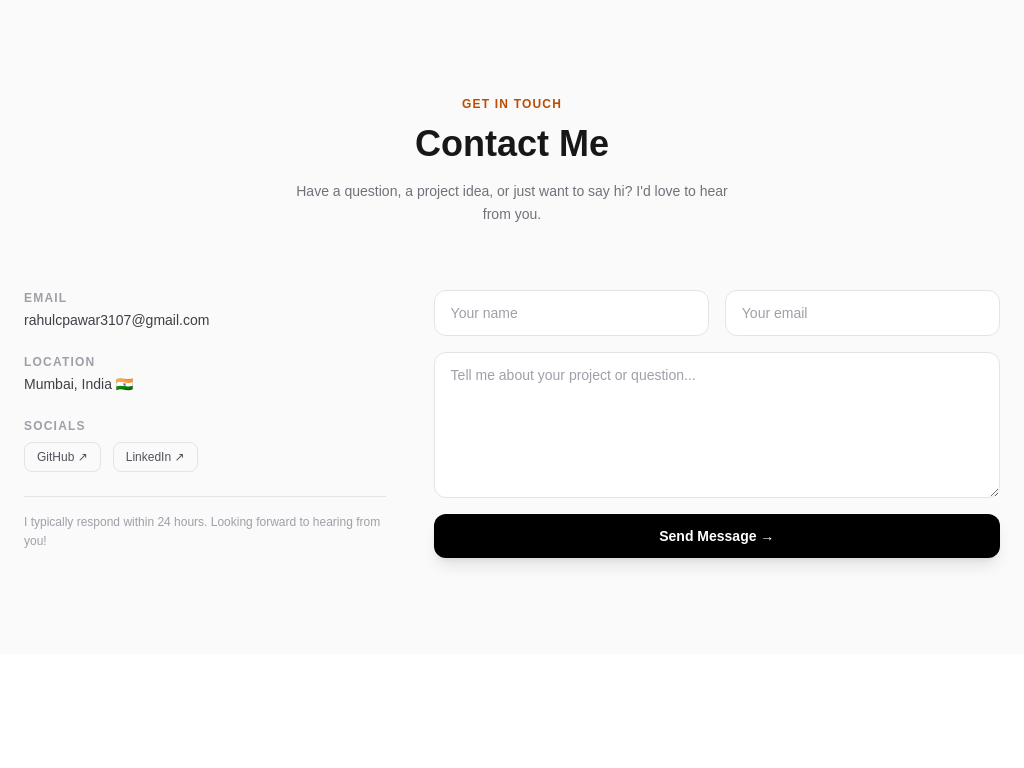
Test: Contact › falls back to a generic error when the response has no body
This screenshot has width=1024, height=768.
Step 1. Type "Ada" into the field with placeholder "Your name" → [571, 312], box [434,290,709,336]
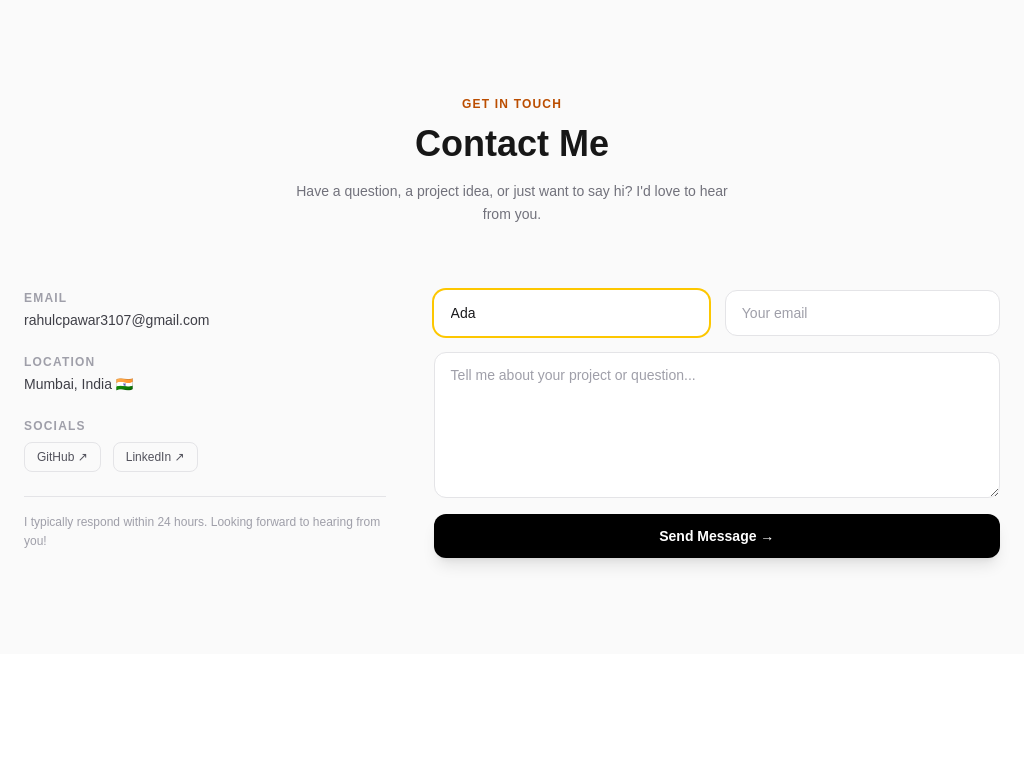
Step 2. Type "ada@example.com" into the field with placeholder "Your email" → [862, 312], box [725,290,1000,336]
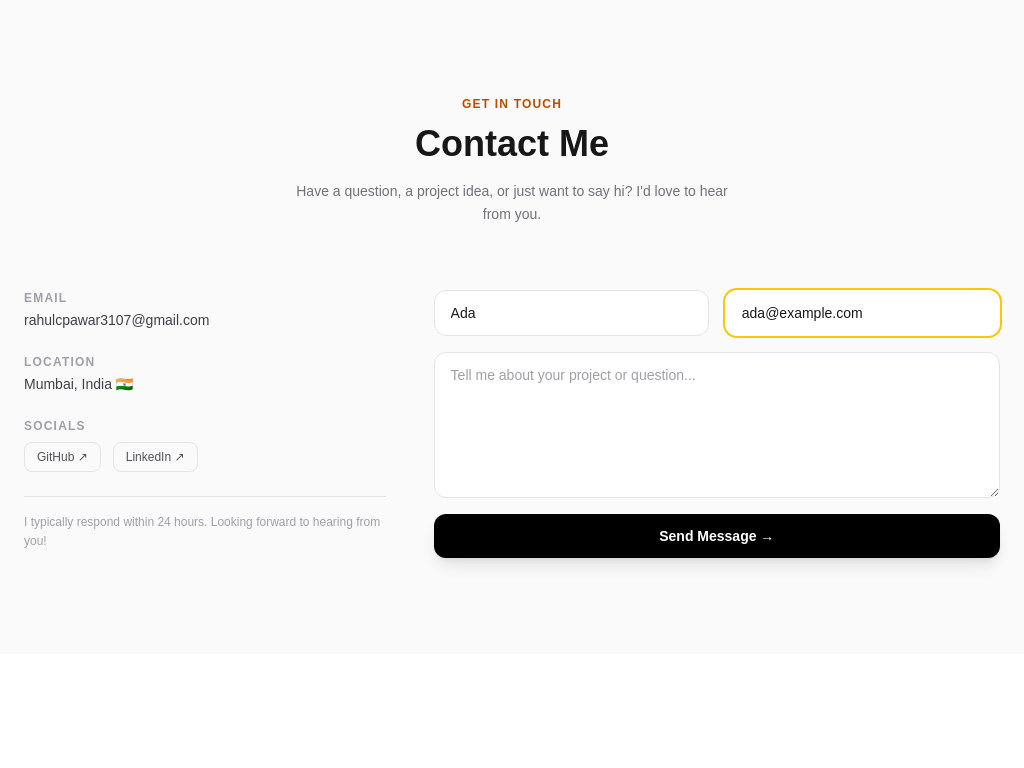
Step 3. Type "Hello" into the text box with placeholder "Tell me about your project or question..." → [717, 424], box [434,352,1000,498]
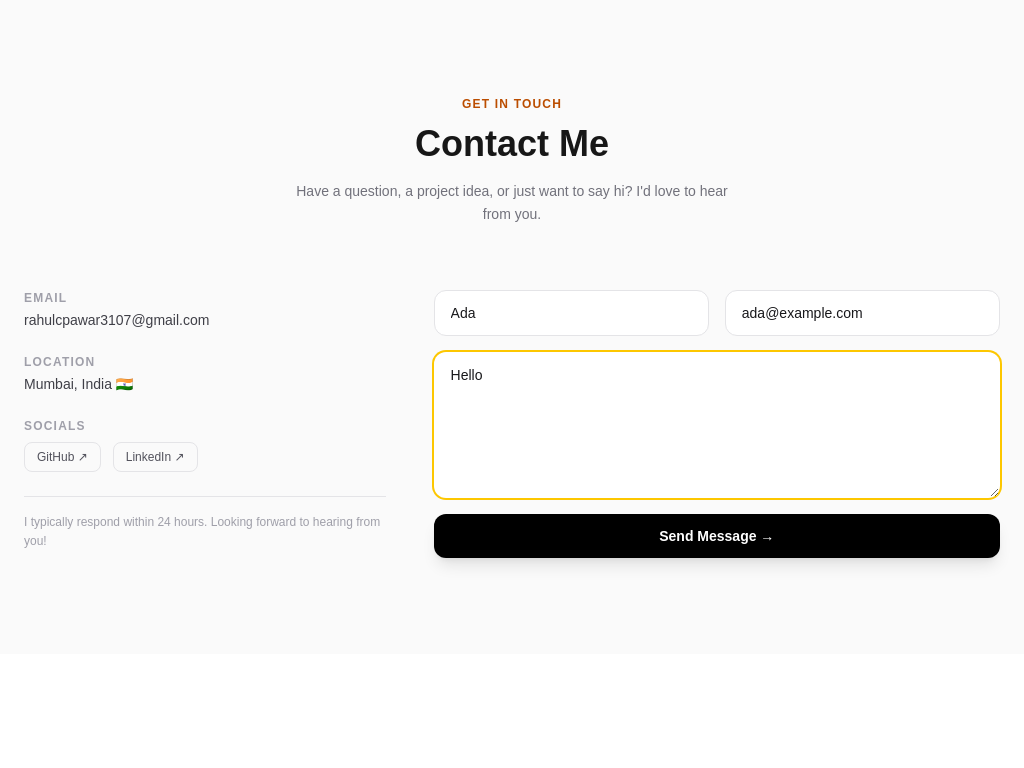
Step 4. Click the button "Send Message →" → [717, 536], box [434,514,1000,558]
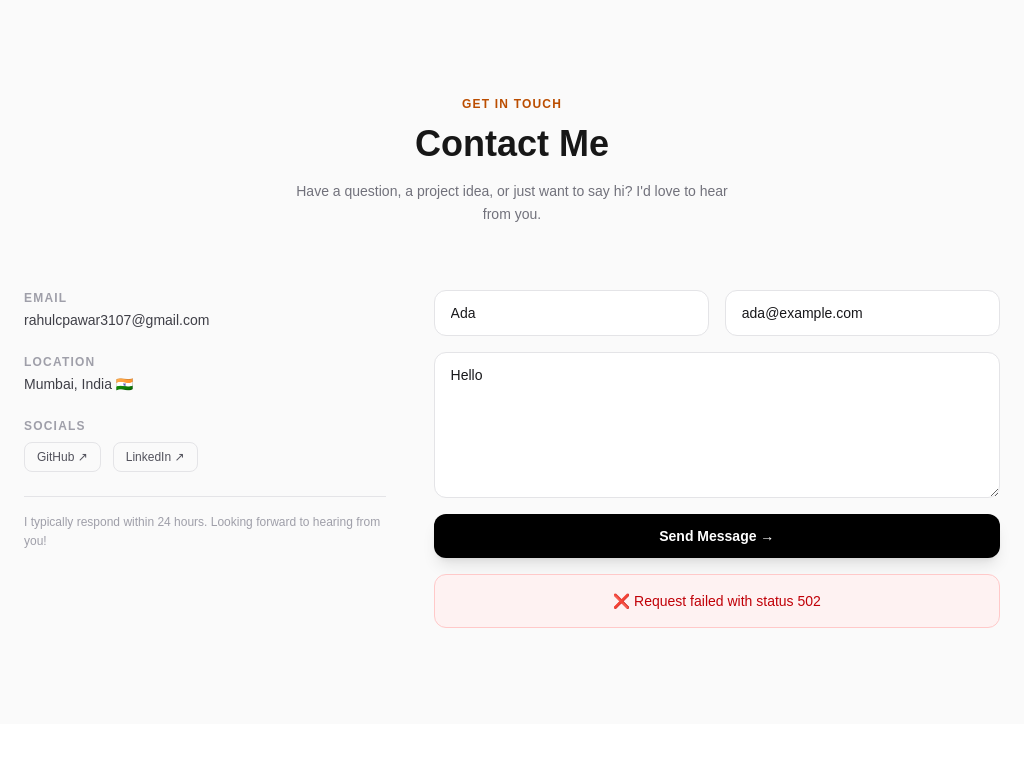
Expected: the text "❌ Request failed with status 502" is shown, [434,574,1000,628]
